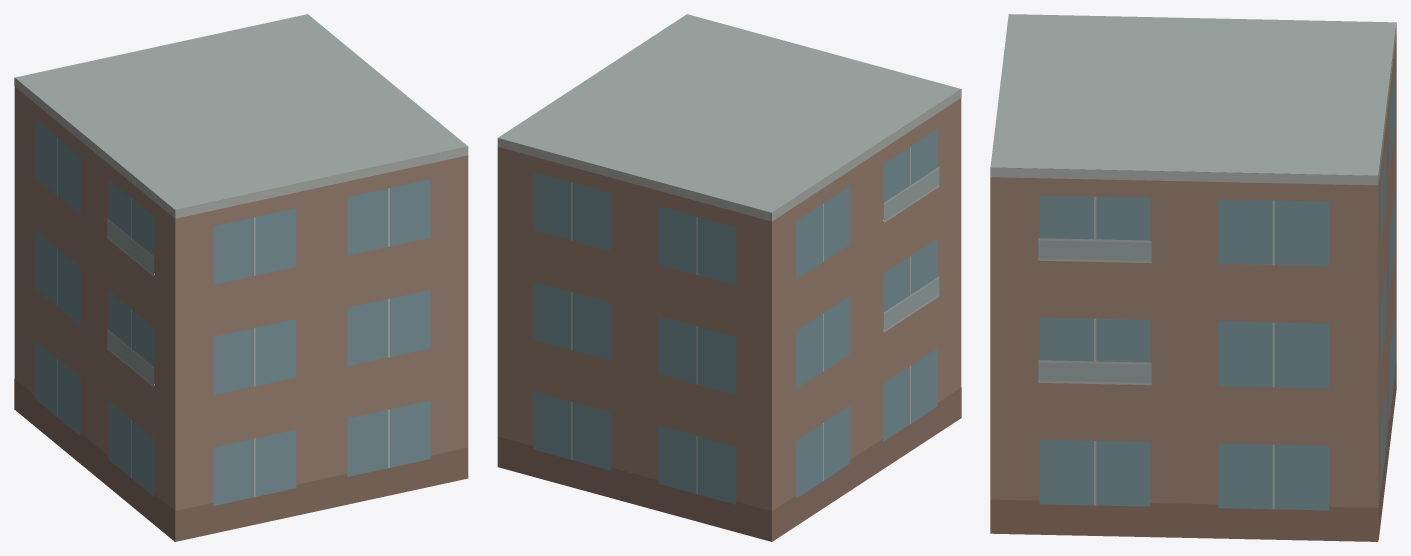
Rendered from residential-b96a97a8-d8e1-4e6d-a9ad-07a99bd1754b.glb.
3 views of the same model, side by side, from view 1: azimuth 30°, elevation 25°; view 2: azimuth 150°, elevation 25°; view 3: azimuth 270°, elevation 25° (orthographic). The views are drawn at different scales.
Parts seen in each view (by area): view 1: residential-b96a97a8-d8e1-4e6d-a9ad-07a99bd1754b.tmp; view 2: residential-b96a97a8-d8e1-4e6d-a9ad-07a99bd1754b.tmp; view 3: residential-b96a97a8-d8e1-4e6d-a9ad-07a99bd1754b.tmp.
Part boxes in pixels (<box>): residential-b96a97a8-d8e1-4e6d-a9ad-07a99bd1754b.tmp: <box>14,14,468,541</box>; residential-b96a97a8-d8e1-4e6d-a9ad-07a99bd1754b.tmp: <box>497,14,961,541</box>; residential-b96a97a8-d8e1-4e6d-a9ad-07a99bd1754b.tmp: <box>990,14,1396,541</box>.
Bounding box in the file's own units: 8.67 × 9.15 × 9.21.
